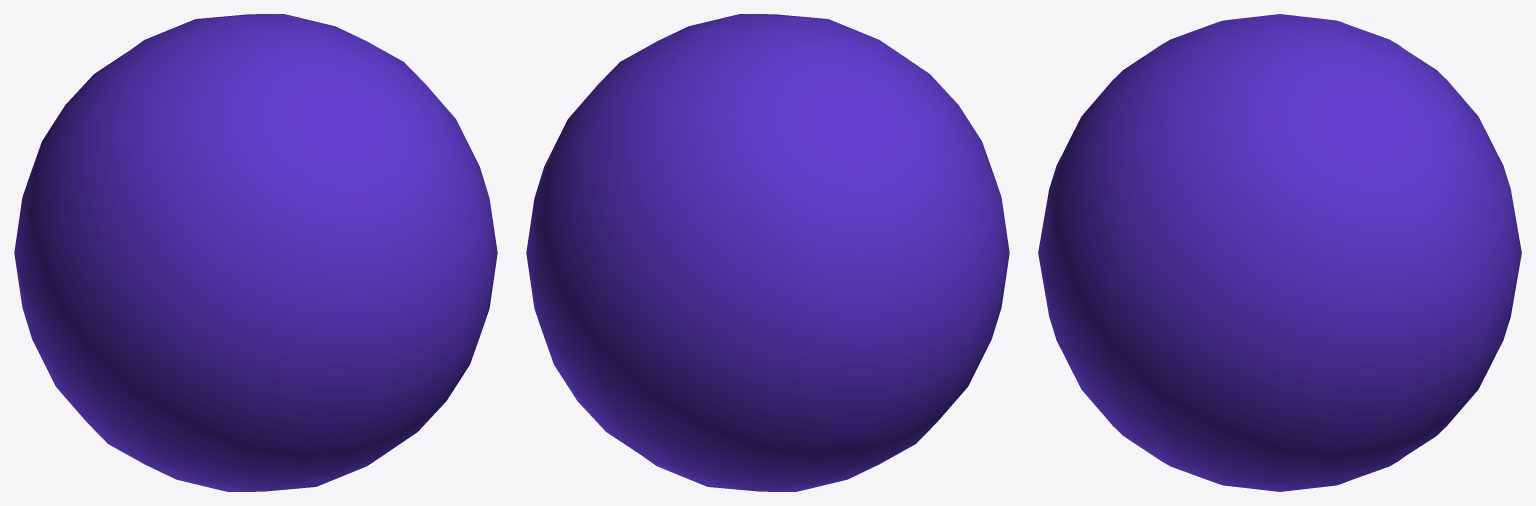
File: Ball.fbx
3 renders of one model, left to right at view 1: azimuth 30°, elevation 25°; view 2: azimuth 150°, elevation 25°; view 3: azimuth 270°, elevation 25°, orthographic.
Parts seen in each view (by area): view 1: SM_Ball; view 2: SM_Ball; view 3: SM_Ball.
Part boxes in pixels (x1,y1,x2,y2): SM_Ball: (14,14,497,491); SM_Ball: (526,14,1009,491); SM_Ball: (1038,14,1521,491).
Bounding box in the file's own units: 346 × 346 × 346.
